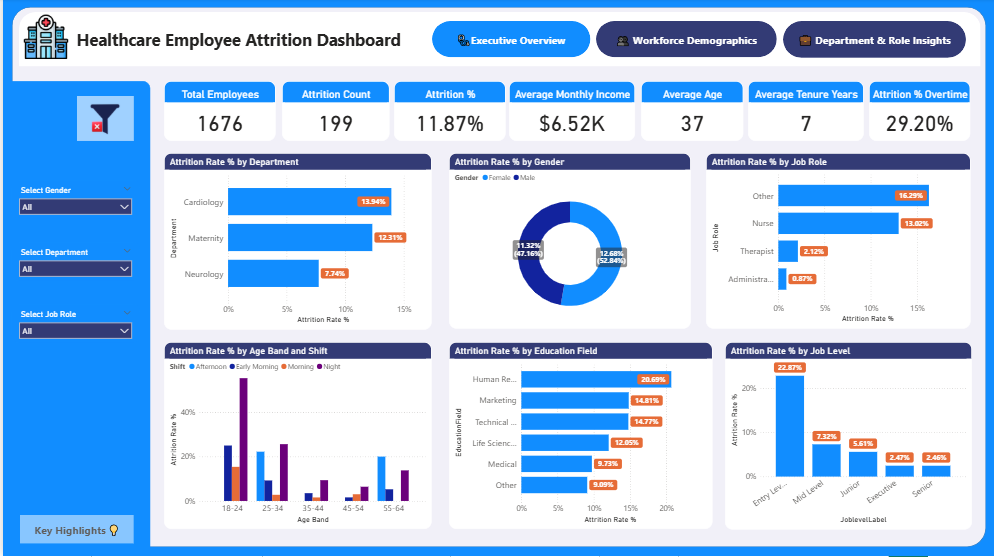

The page's visual inventory and layout, read from the dashboard file:
{"tool":"powerbi","page":{"name":"Summary","canvas":[1920,1080],"ordinal":0},"visuals":[{"type":"shape","box":[17.5,17.5,1885,1045],"z":0},{"type":"shape","box":[30,27.1,1861.4,105.7],"z":1000},{"type":"shape","box":[0,160,285,920],"z":2000},{"type":"card","title":"Total Employees","fields":{"Values":["Fact_EmployeeAttrition.Total Employees"]},"box":[312,160,216,116],"z":3000},{"type":"card","title":"Attrition Count","fields":{"Values":["Fact_EmployeeAttrition.Attrition Count"]},"box":[540,160,208,116],"z":4000},{"type":"card","title":"Attrition %","fields":{"Values":["Fact_EmployeeAttrition.Attrition Rate %"]},"box":[756,160,216,116],"z":5000},{"type":"card","title":"Average Monthly Income","fields":{"Values":["Fact_EmployeeAttrition.Average Monthly Income"]},"box":[980,160,244,116],"z":6000},{"type":"card","title":"Average Age","fields":{"Values":["Fact_EmployeeAttrition.Average Age"]},"box":[1234,160,198,116],"z":7000},{"type":"card","title":"Average Tenure Years","fields":{"Values":["Fact_EmployeeAttrition.Average Tenure Years"]},"box":[1442,160,224,116],"z":8000},{"type":"card","title":"Attrition % Overtime","fields":{"Values":["Dim_Employee.Attrition % Overtime"]},"box":[1676,160,196,116],"z":9000},{"type":"barChart","fields":{"Category":["Dim_Employee.Department"],"Y":["Fact_EmployeeAttrition.Attrition Rate %"]},"box":[312,300,518,342],"z":10000},{"type":"barChart","fields":{"Category":["Dim_Employee.JobRole"],"Y":["Fact_EmployeeAttrition.Attrition Rate %"]},"box":[1360,300,512,340],"z":11000},{"type":"donutChart","fields":{"Category":["Dim_Employee.Gender"],"Y":["Fact_EmployeeAttrition.Attrition Rate %"]},"box":[864,300,468,340],"z":12000},{"type":"clusteredColumnChart","title":"Attrition Rate % by Job Level","fields":{"Category":["Dim_Employee.JoblevelLabel"],"Y":["Fact_EmployeeAttrition.Attrition Rate %"]},"box":[1397.5,665,477.5,362.5],"z":13000},{"type":"barChart","title":"Attrition Rate % by Education Field","fields":{"Category":["Dim_Education.EducationField"],"Y":["Fact_EmployeeAttrition.Attrition Rate %"]},"box":[864,666,510,362],"z":14000},{"type":"lineClusteredColumnComboChart","fields":{"Category":["Dim_Employee.Age Band"],"Series":["Dim_Employee.ShiftLabel"],"Y":["Fact_EmployeeAttrition.Attrition Rate %"]},"box":[312,666,518,362],"z":15000},{"type":"slicer","fields":{"Values":["Dim_Employee.Gender"]},"box":[15.8,352.5,250,75],"z":16000},{"type":"slicer","fields":{"Values":["Dim_Employee.JobRole"]},"box":[15.8,592.5,250,75],"z":17000},{"type":"slicer","fields":{"Values":["Dim_Employee.Department"]},"box":[15.8,472.5,250,75],"z":18000},{"type":"actionButton","title":"Key Highlights 💡","box":[32.5,1000,220,55],"z":20000},{"type":"image","box":[22.9,27.1,120,95.7],"z":21000},{"type":"image","box":[143.3,190,110,86.7],"z":22000},{"type":"textbox","box":[137.5,52.5,740,55],"z":23000},{"type":"actionButton","box":[830,45,306.7,70],"z":24000},{"type":"actionButton","box":[1148.3,45,350,70],"z":25000},{"type":"actionButton","box":[1510,44.3,354.3,71.4],"z":26000}]}

Visuals, with their boxes in screenshot pixels (x1, y1, x2, y2), scaled from the page's 1920x1080 canvas onto the 994x557 screenshot:
shape: [x1=9, y1=9, x2=985, y2=548]
shape: [x1=16, y1=14, x2=979, y2=68]
shape: [x1=0, y1=83, x2=148, y2=556]
"Total Employees" card: [x1=162, y1=83, x2=273, y2=142]
"Attrition Count" card: [x1=280, y1=83, x2=387, y2=142]
"Attrition %" card: [x1=391, y1=83, x2=503, y2=142]
"Average Monthly Income" card: [x1=507, y1=83, x2=634, y2=142]
"Average Age" card: [x1=639, y1=83, x2=741, y2=142]
"Average Tenure Years" card: [x1=747, y1=83, x2=863, y2=142]
"Attrition % Overtime" card: [x1=868, y1=83, x2=969, y2=142]
barChart - Dim_Employee.Department x Fact_EmployeeAttrition.Attrition Rate %: [x1=162, y1=155, x2=430, y2=331]
barChart - Dim_Employee.JobRole x Fact_EmployeeAttrition.Attrition Rate %: [x1=704, y1=155, x2=969, y2=330]
donutChart - Dim_Employee.Gender x Fact_EmployeeAttrition.Attrition Rate %: [x1=447, y1=155, x2=690, y2=330]
"Attrition Rate % by Job Level" clusteredColumnChart: [x1=723, y1=343, x2=971, y2=530]
"Attrition Rate % by Education Field" barChart: [x1=447, y1=343, x2=711, y2=530]
lineClusteredColumnComboChart - Dim_Employee.Age Band x Dim_Employee.ShiftLabel: [x1=162, y1=343, x2=430, y2=530]
slicer - Dim_Employee.Gender: [x1=8, y1=182, x2=138, y2=220]
slicer - Dim_Employee.JobRole: [x1=8, y1=306, x2=138, y2=344]
slicer - Dim_Employee.Department: [x1=8, y1=244, x2=138, y2=282]
"Key Highlights 💡" actionButton: [x1=17, y1=516, x2=131, y2=544]
image: [x1=12, y1=14, x2=74, y2=63]
image: [x1=74, y1=98, x2=131, y2=143]
textbox: [x1=71, y1=27, x2=454, y2=55]
actionButton: [x1=430, y1=23, x2=588, y2=59]
actionButton: [x1=594, y1=23, x2=776, y2=59]
actionButton: [x1=782, y1=23, x2=965, y2=60]
